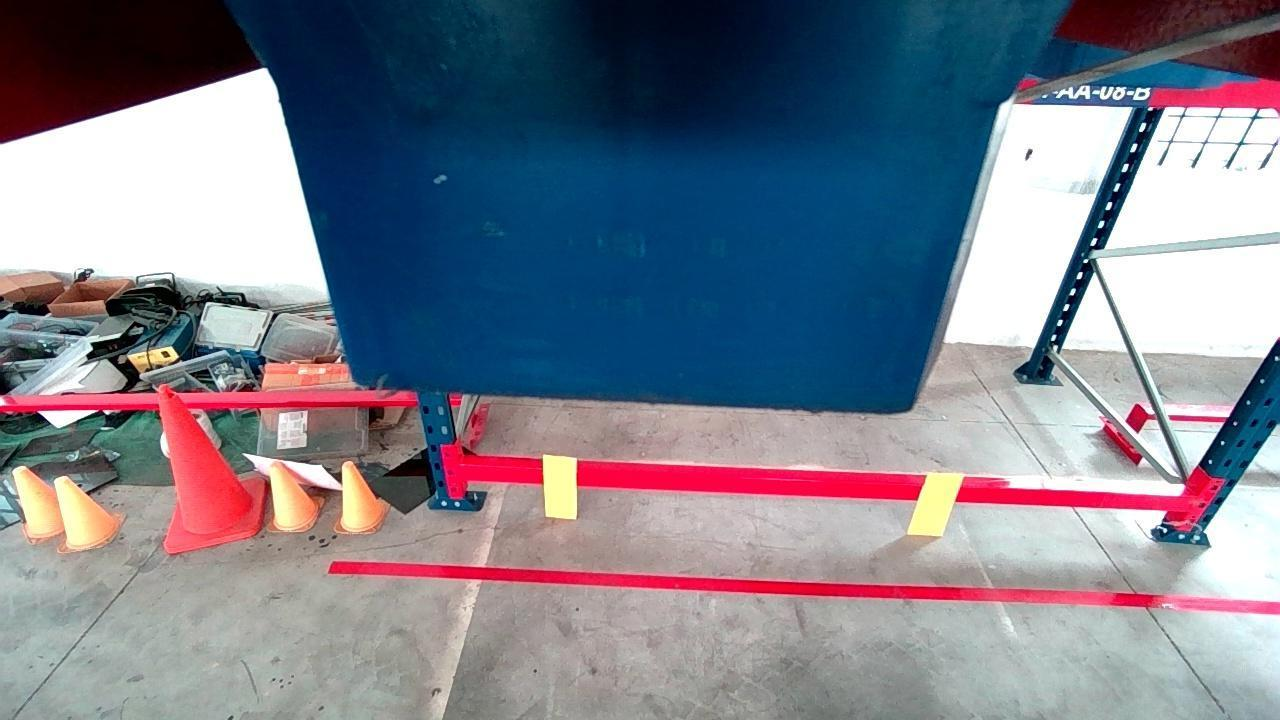h_rack: (464, 459, 1182, 507)
orange_strip: (909, 470, 963, 536), (541, 452, 577, 516)
red_line: (329, 559, 1280, 617)
